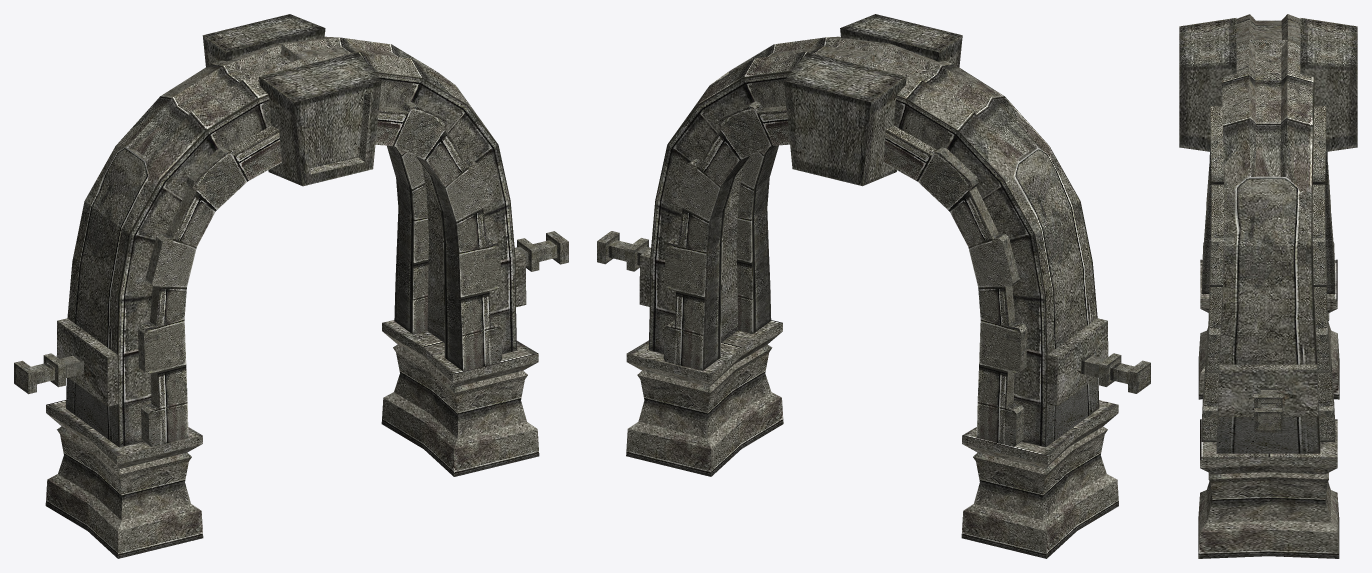
File: exp_zone_door_fbx.FBX
3 renders of one model, left to right at view 1: azimuth 30°, elevation 25°; view 2: azimuth 150°, elevation 25°; view 3: azimuth 270°, elevation 25°, orthographic. The views are drawn at different scales.
Visible parts, largest first — view 1: exp_door001; view 2: exp_door001; view 3: exp_door001.
Part boxes in pixels (x1,y1,x2,y2): exp_door001: (14, 14, 568, 558); exp_door001: (597, 14, 1150, 558); exp_door001: (1179, 14, 1357, 558).
Bounding box in the file's own units: 7.94 × 6.04 × 2.33.
